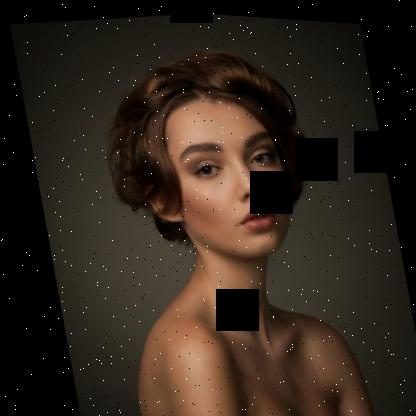Female: (127, 80, 299, 266)
